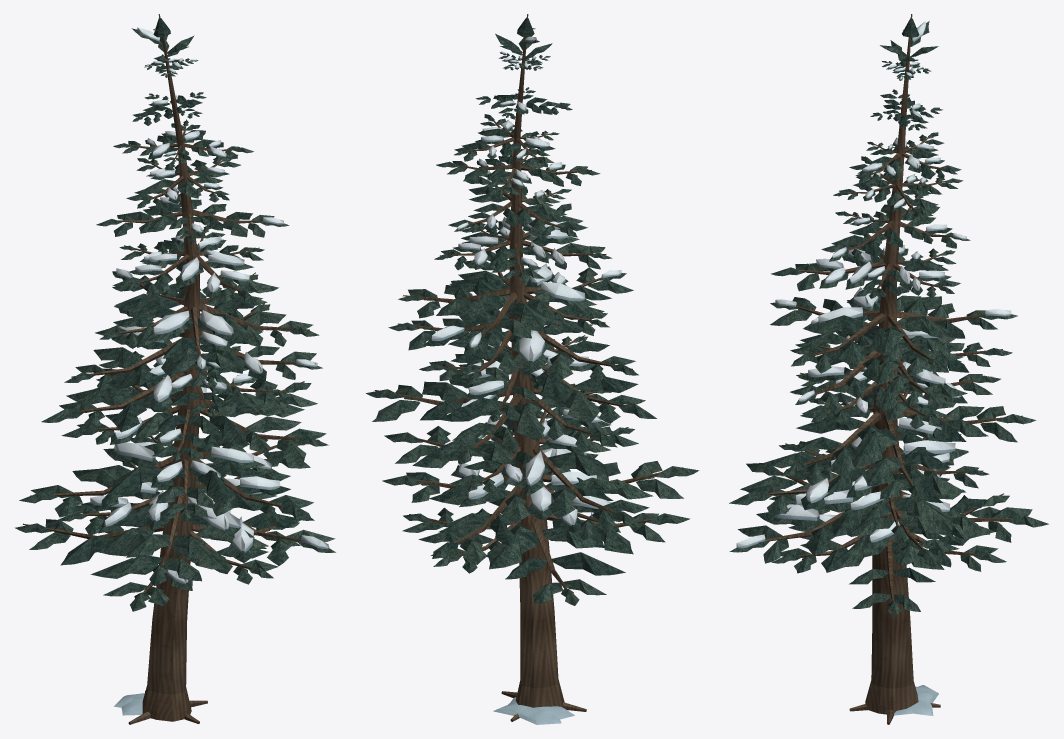
File: 27_Tall_Ridge_Spruce.obj
The picture shows the model from 3 angles, left to right: view 1: azimuth 30°, elevation 25°; view 2: azimuth 150°, elevation 25°; view 3: azimuth 270°, elevation 25°; orthographic projection.
Visible parts, largest first — view 1: 27_Tall_Ridge_Spruce; view 2: 27_Tall_Ridge_Spruce; view 3: 27_Tall_Ridge_Spruce.
Part boxes in pixels (x1,y1,x2,y2): 27_Tall_Ridge_Spruce: (15,14,335,724); 27_Tall_Ridge_Spruce: (366,14,699,724); 27_Tall_Ridge_Spruce: (729,14,1048,724).
Size of the model in its own units: 3.2 by 7.48 by 3.14.
Materials: 5 (5 with a texture image).
